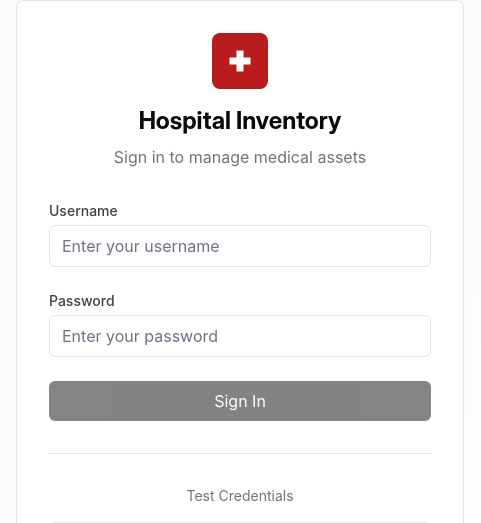
Test: LoginView Component › Login Process › should show error message on failed login
Type "wrong" into the field with test id "username" at {"x": 240, "y": 246}, box [49, 225, 431, 267]
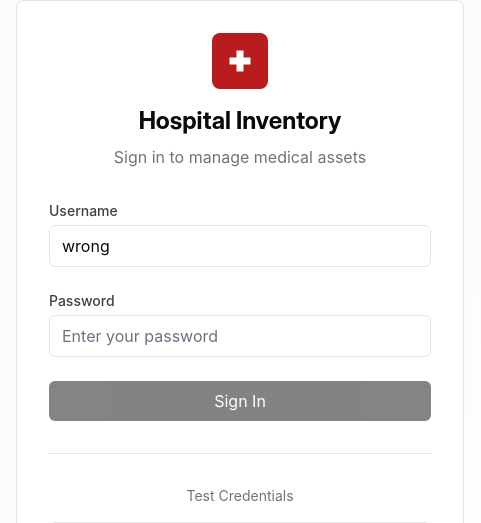
Type "credentials" into the password field with test id "password" at {"x": 240, "y": 336}, box [49, 315, 431, 357]
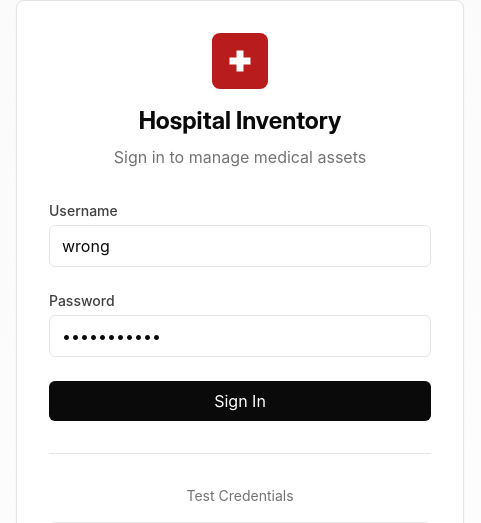
Submit the form, box [49, 201, 431, 421]
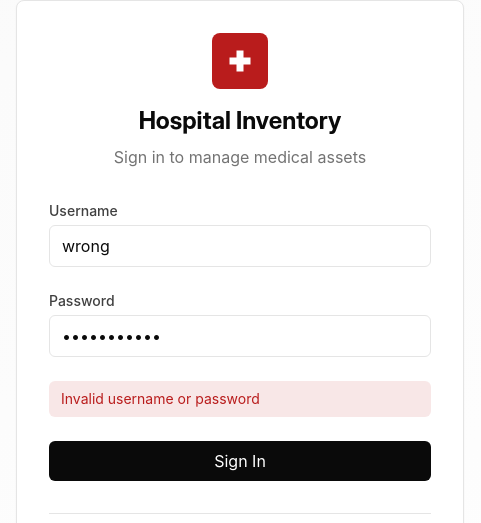
Result: the text "Invalid username or password" is shown at [49, 381, 431, 417]
